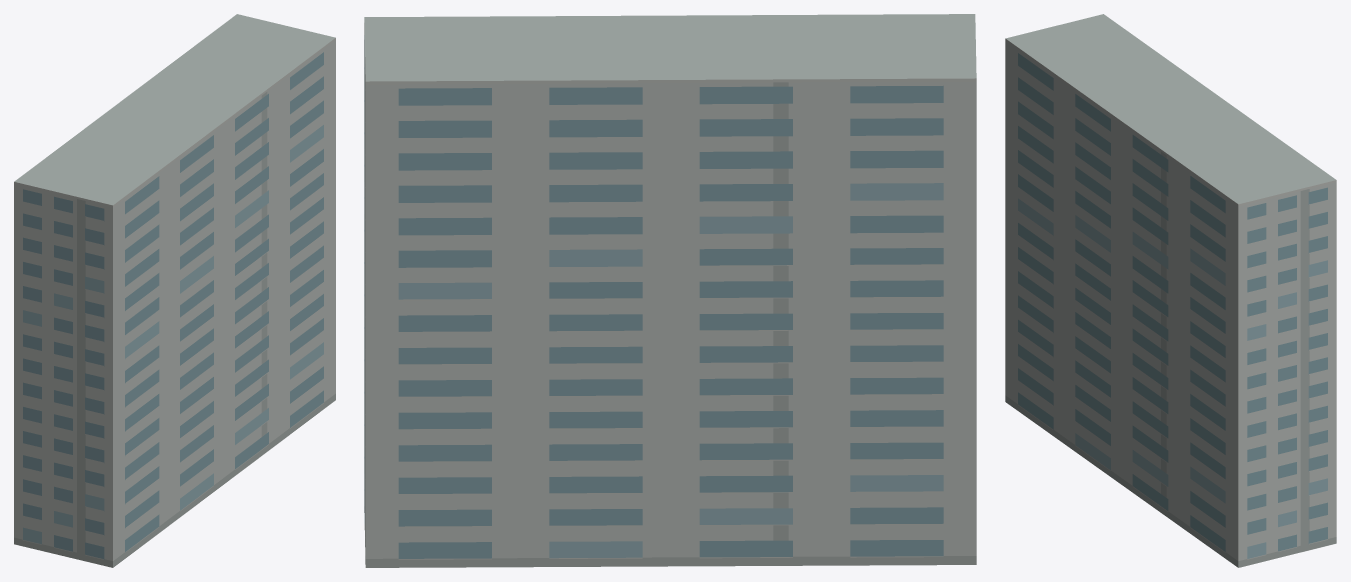
File: residential-c8d909cd-65cd-42bc-bde6-51a2d133ad8b.glb
3 views of the same model, side by side, from view 1: azimuth 30°, elevation 25°; view 2: azimuth 150°, elevation 25°; view 3: azimuth 270°, elevation 25° (orthographic). The views are drawn at different scales.
Visible parts, largest first — view 1: residential-c8d909cd-65cd-42bc-bde6-51a2d133ad8b.tmp; view 2: residential-c8d909cd-65cd-42bc-bde6-51a2d133ad8b.tmp; view 3: residential-c8d909cd-65cd-42bc-bde6-51a2d133ad8b.tmp.
Boxes of the visible parts, left/top/right/bottom form: residential-c8d909cd-65cd-42bc-bde6-51a2d133ad8b.tmp: left=14, top=14, right=335, bottom=567; residential-c8d909cd-65cd-42bc-bde6-51a2d133ad8b.tmp: left=364, top=14, right=976, bottom=567; residential-c8d909cd-65cd-42bc-bde6-51a2d133ad8b.tmp: left=1005, top=14, right=1336, bottom=567.
Size of the model in its own units: 47.18 by 42 by 34.69.
